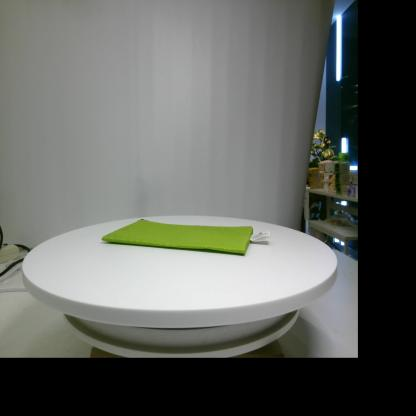Stationery: (102, 219, 271, 254)
